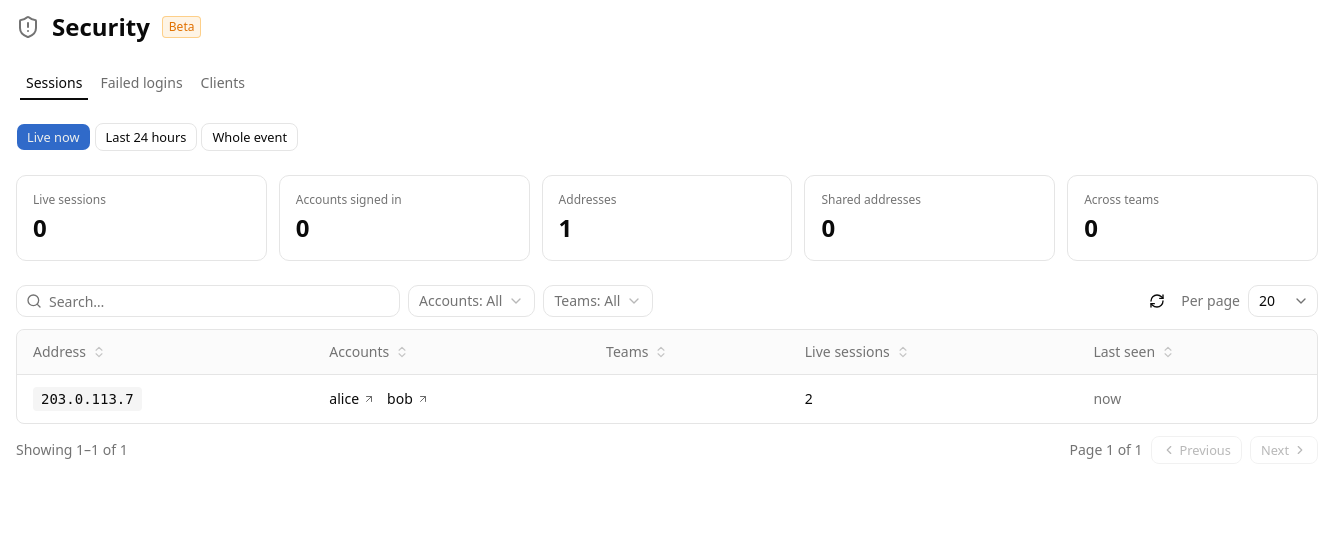
Test: says so when nothing failed in the window
This screenshot has width=1335, height=549.
Click the tab "Failed logins".
click(142, 83)  # box [93,70,190,96]
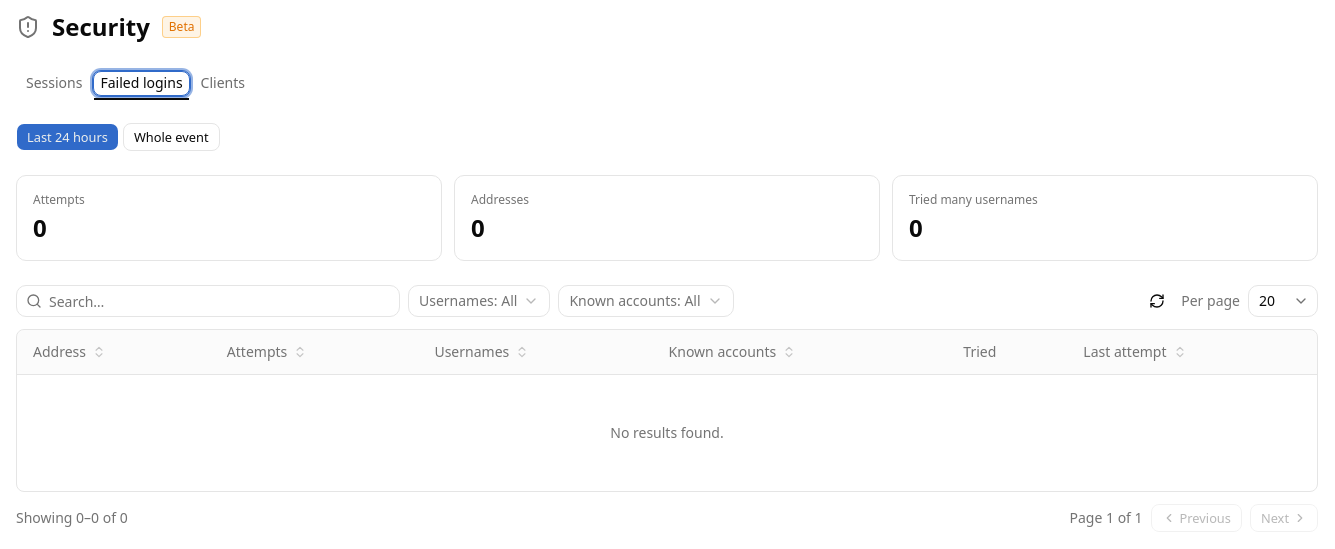
Expected: the text "No results found." is shown, [17,374,1317,491]
